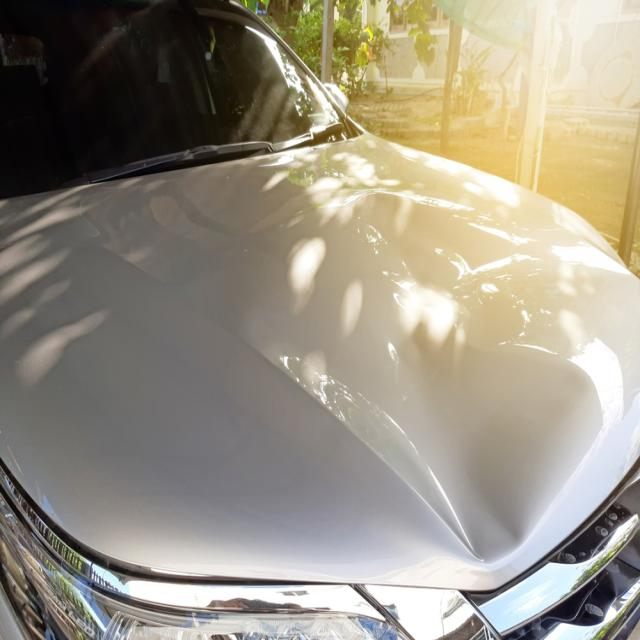Cabossage: (119, 150, 628, 550)
